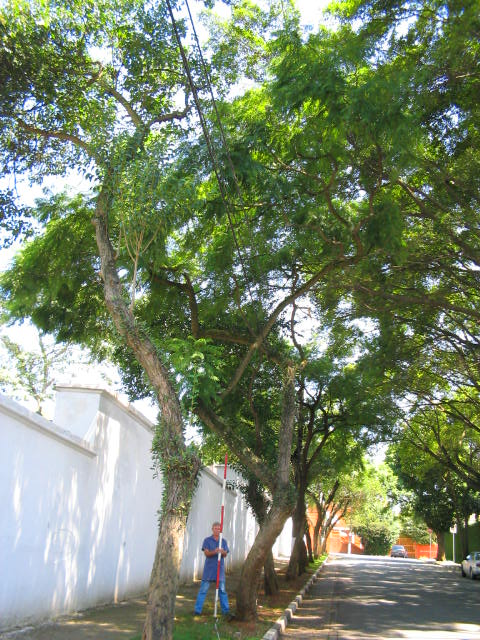crown: (5, 68, 440, 363)
stem: (91, 192, 197, 640), (231, 483, 309, 615)
stick: (210, 455, 231, 616)
tree: (5, 65, 441, 618)
